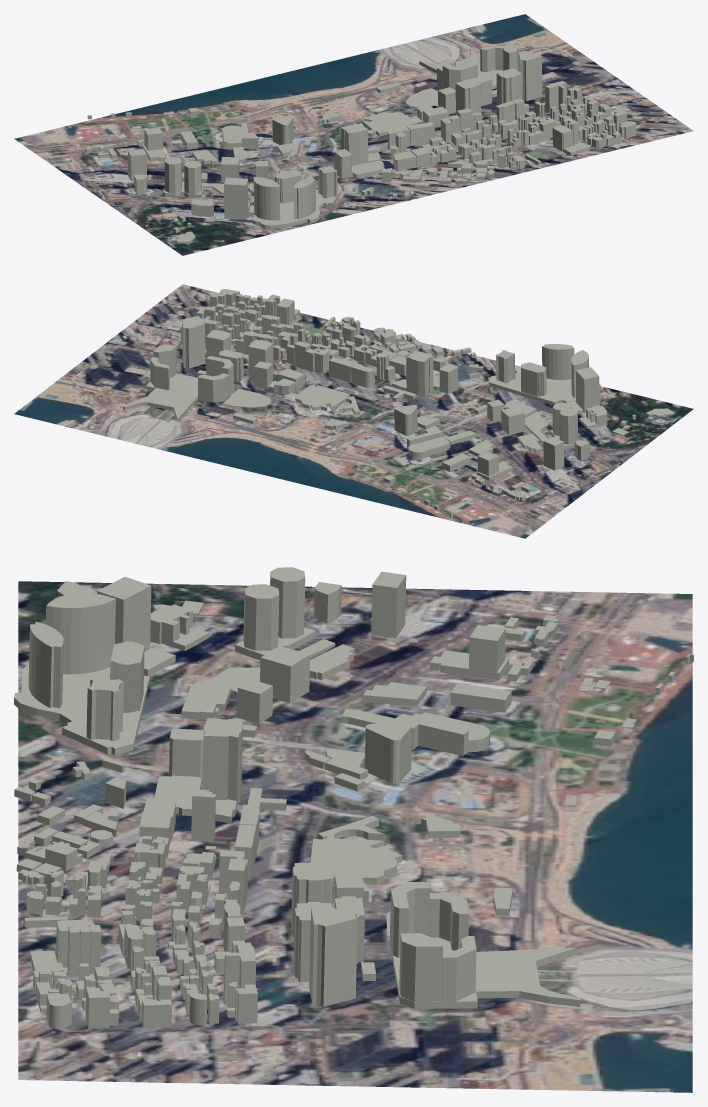
The model's file is map2.fbx.
The picture shows the model from 3 angles, top to bottom: view 1: azimuth 30°, elevation 25°; view 2: azimuth 150°, elevation 25°; view 3: azimuth 270°, elevation 25°; orthographic projection. The views are drawn at different scales.
Parts seen in each view (by area): view 1: EXPORT_GOOGLE_SAT_WM, Areas:building; view 2: EXPORT_GOOGLE_SAT_WM, Areas:building; view 3: EXPORT_GOOGLE_SAT_WM, Areas:building.
Boxes of the visible parts, x1,y1,x2,y2 form: EXPORT_GOOGLE_SAT_WM: [14, 14, 693, 255]; Areas:building: [85, 43, 636, 243]; EXPORT_GOOGLE_SAT_WM: [14, 284, 693, 538]; Areas:building: [123, 289, 674, 518]; EXPORT_GOOGLE_SAT_WM: [18, 581, 692, 1092]; Areas:building: [14, 567, 693, 1028].
Size of the model in its own units: 160518 by 13835 by 92484.
